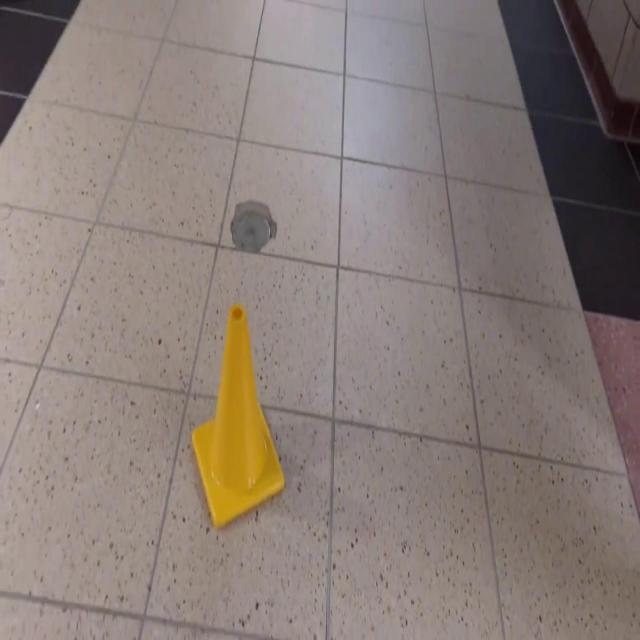frc_cone: (190, 303, 286, 530)
